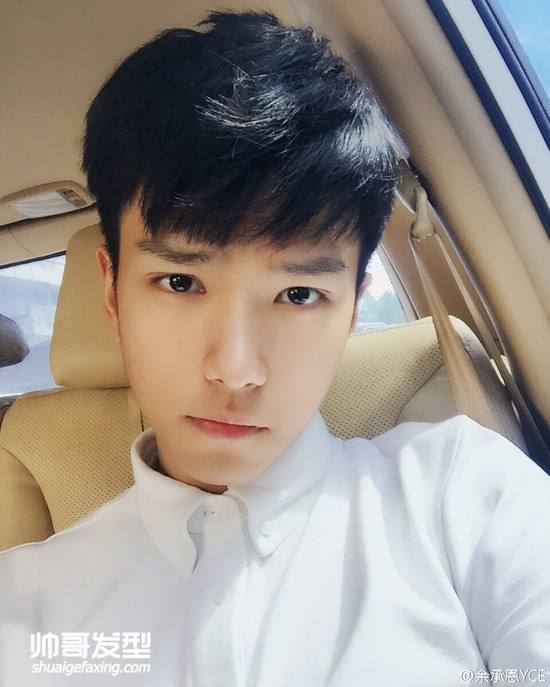person: (51, 39, 368, 475)
